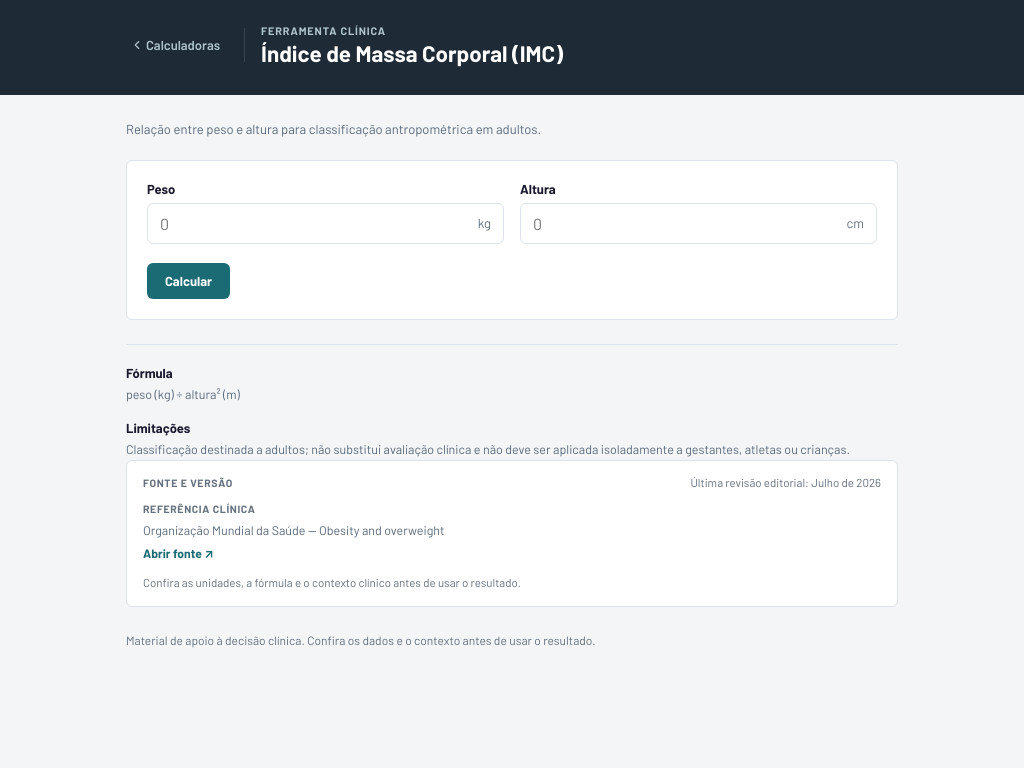
Test: CalculadoraDetalhe › mostra validação em entradas inválidas
This screenshot has width=1024, height=768.
Click the button "Calcular".
click(188, 281)  # box x1=147 y1=263 x2=230 y2=299
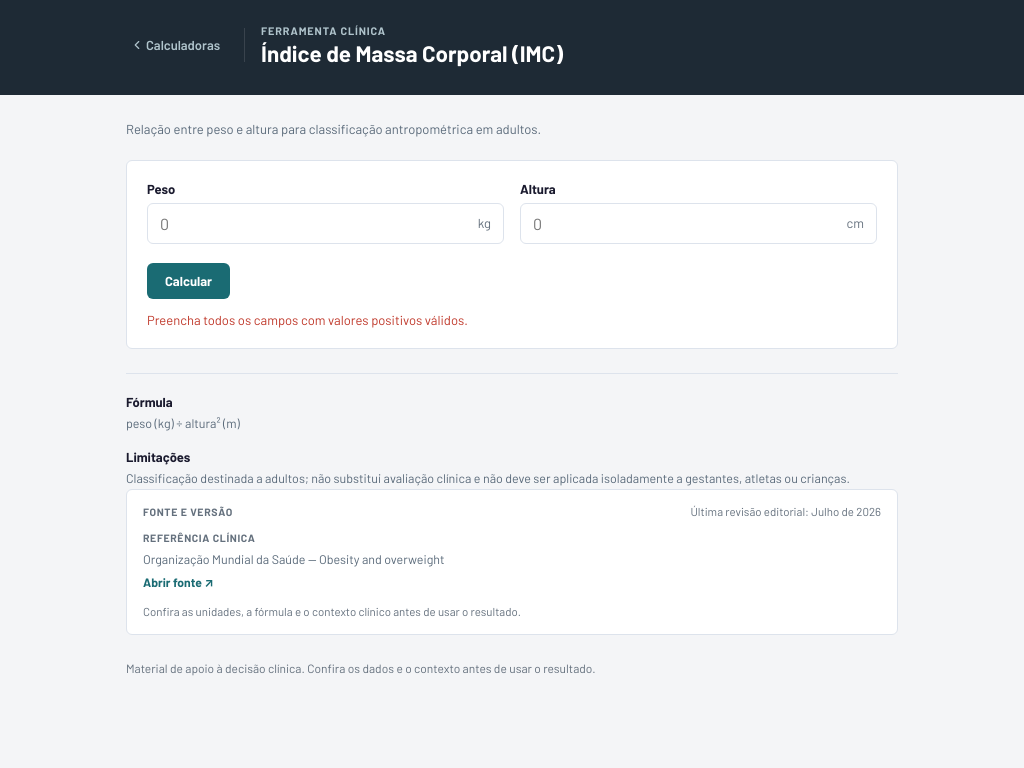
expect the message shows "Preencha": met, box x1=147 y1=312 x2=468 y2=328
